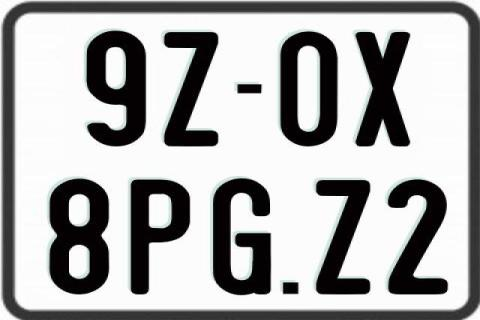0: (50, 176, 116, 297), (280, 30, 342, 146), (86, 31, 147, 147), (386, 177, 446, 293)
G: (212, 178, 274, 296)
P: (129, 177, 190, 293)
X: (356, 30, 412, 144)
Z: (162, 32, 221, 148), (313, 180, 369, 298)
